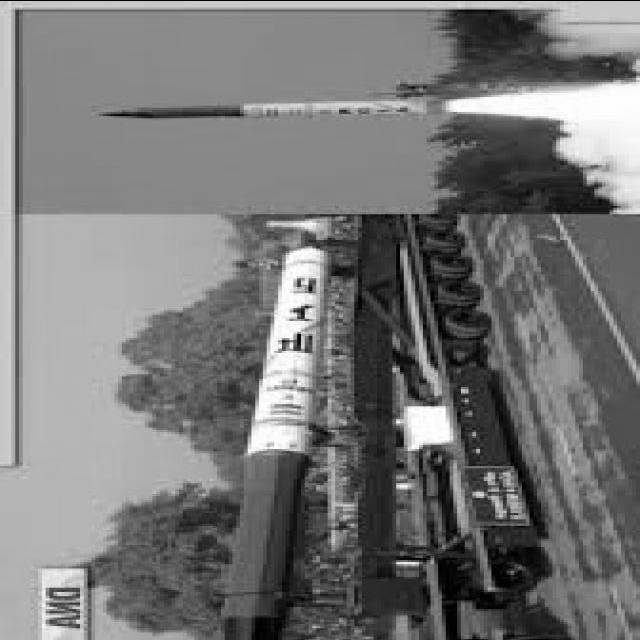missile: (205, 208, 349, 640), (62, 92, 457, 124)
